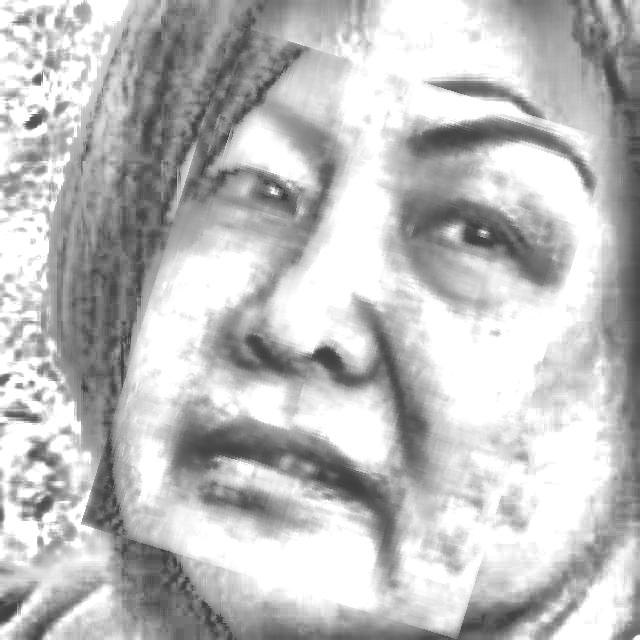angry: (115, 47, 577, 616)
